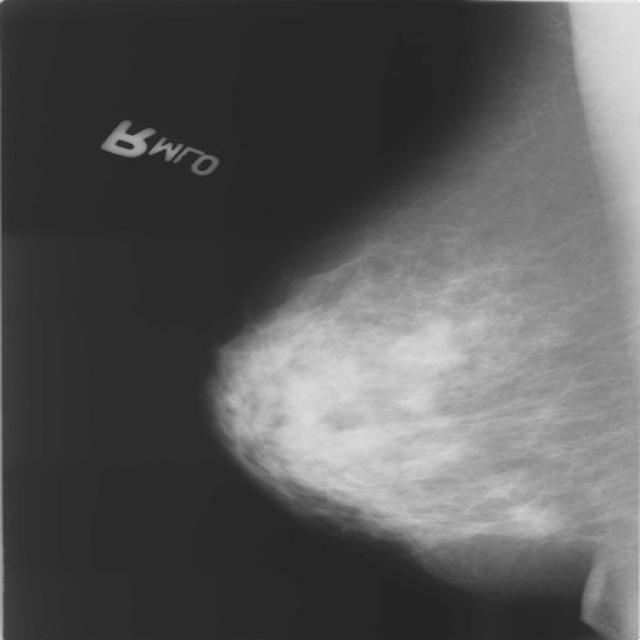tumour: (507, 502, 558, 538)
